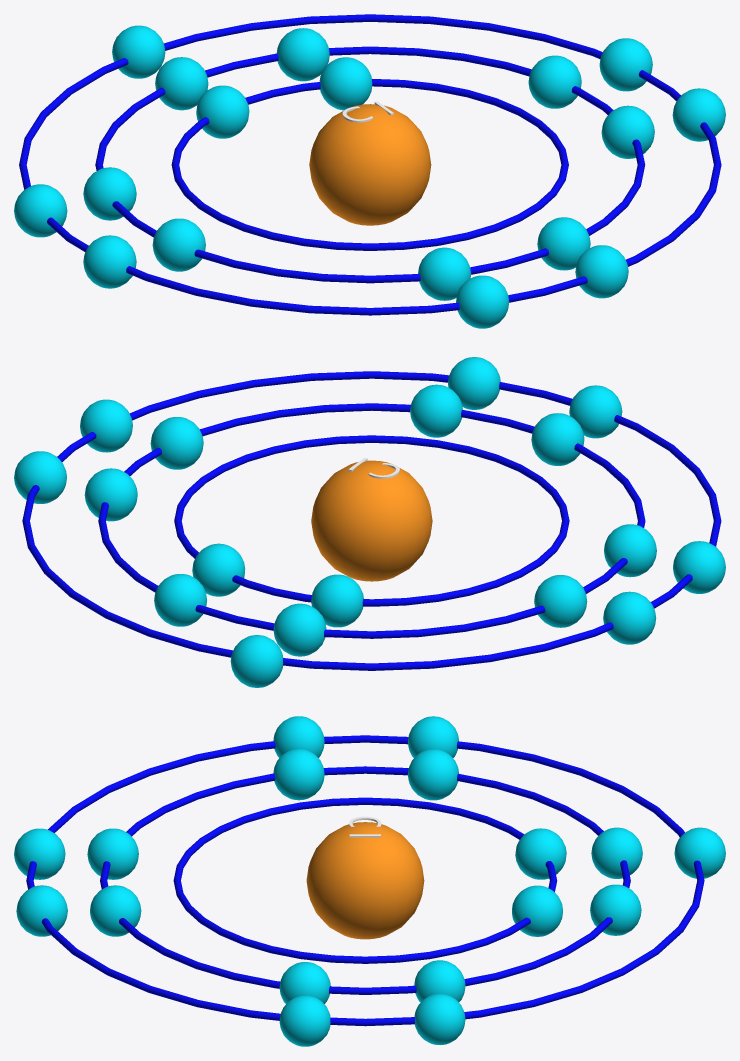
The picture shows the model from 3 angles, top to bottom: view 1: azimuth 30°, elevation 25°; view 2: azimuth 150°, elevation 25°; view 3: azimuth 270°, elevation 25°; orthographic projection. The views are drawn at different scales.
Visible parts, largest first — view 1: CI, Orbit, Nitron_3, Nitron_2, Nitron_4, Nitron_6, Nitron_7, Nitron, Nitron_5; view 2: CI, Orbit, Nitron_7, Nitron, Nitron_5, Nitron_2, Nitron_4, Nitron_6, Nitron_3; view 3: CI, Orbit, Nitron_5, Nitron_6, Nitron_3, Nitron_4, Nitron_7, Nitron_2, Nitron.
Boxes of the visible parts, x1,y1,x2,y2 form: CI: [83, 28, 654, 300]; Orbit: [19, 14, 721, 315]; Nitron_3: [456, 275, 509, 328]; Nitron_2: [83, 235, 136, 288]; Nitron_4: [575, 245, 628, 298]; Nitron_6: [599, 38, 652, 91]; Nitron_7: [112, 25, 165, 78]; Nitron: [14, 184, 67, 237]; Nitron_5: [672, 88, 725, 141]; CI: [84, 384, 656, 656]; Orbit: [22, 371, 721, 670]; Nitron_7: [230, 635, 283, 687]; Nitron: [603, 591, 656, 644]; Nitron_5: [80, 399, 132, 452]; Nitron_2: [673, 541, 725, 593]; Nitron_4: [448, 357, 500, 409]; Nitron_6: [14, 451, 66, 503]; Nitron_3: [569, 385, 622, 438]; CI: [87, 749, 642, 1003]; Orbit: [26, 735, 704, 1026]; Nitron_5: [279, 995, 330, 1046]; Nitron_6: [414, 993, 465, 1044]; Nitron_3: [14, 828, 65, 879]; Nitron_4: [16, 885, 67, 936]; Nitron_7: [674, 827, 725, 878]; Nitron_2: [273, 716, 324, 757]; Nitron: [408, 716, 458, 757].
Bounding box in the file's own units: 193 × 32 × 193.
